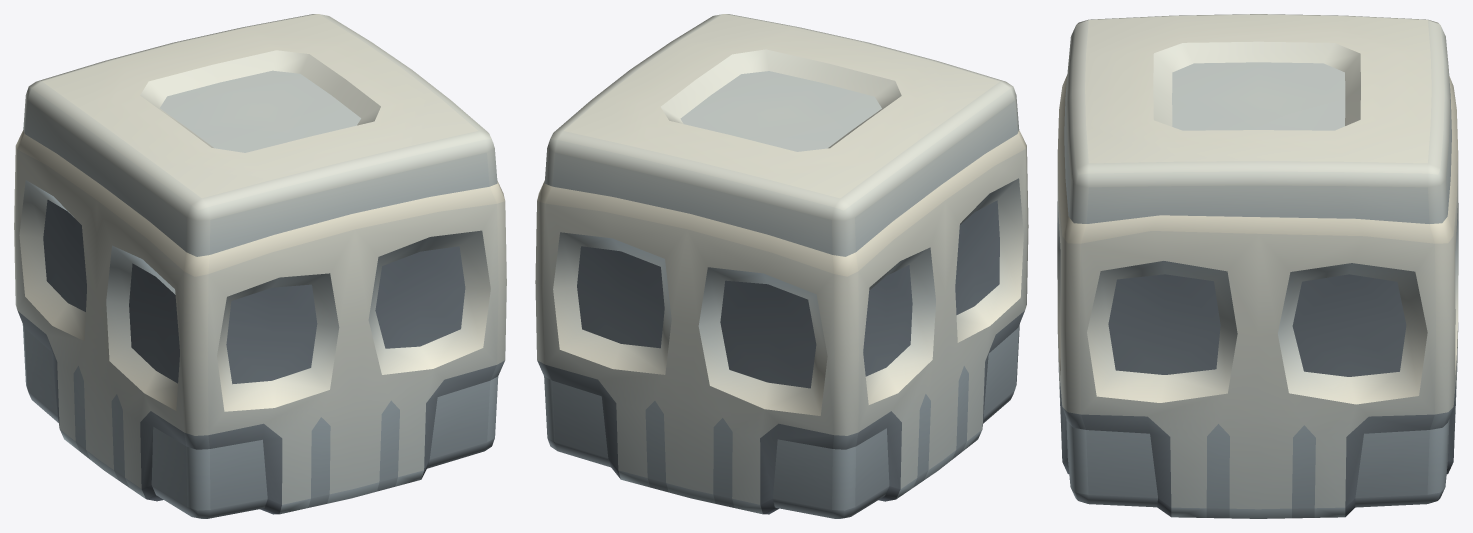
Rendered from Quartz_Skull.fbx.
3 renders of one model, left to right at view 1: azimuth 30°, elevation 25°; view 2: azimuth 150°, elevation 25°; view 3: azimuth 270°, elevation 25°, orthographic. The views are drawn at different scales.
Visible parts, largest first — view 1: Quartz_Skull_LOD0; view 2: Quartz_Skull_LOD0; view 3: Quartz_Skull_LOD0.
Boxes of the visible parts, <box> form: Quartz_Skull_LOD0: <box>14,14,506,518</box>; Quartz_Skull_LOD0: <box>535,14,1028,518</box>; Quartz_Skull_LOD0: <box>1057,14,1458,518</box>.
Size of what is drawn, in the model's own units: 1.12 by 1.11 by 1.12.
